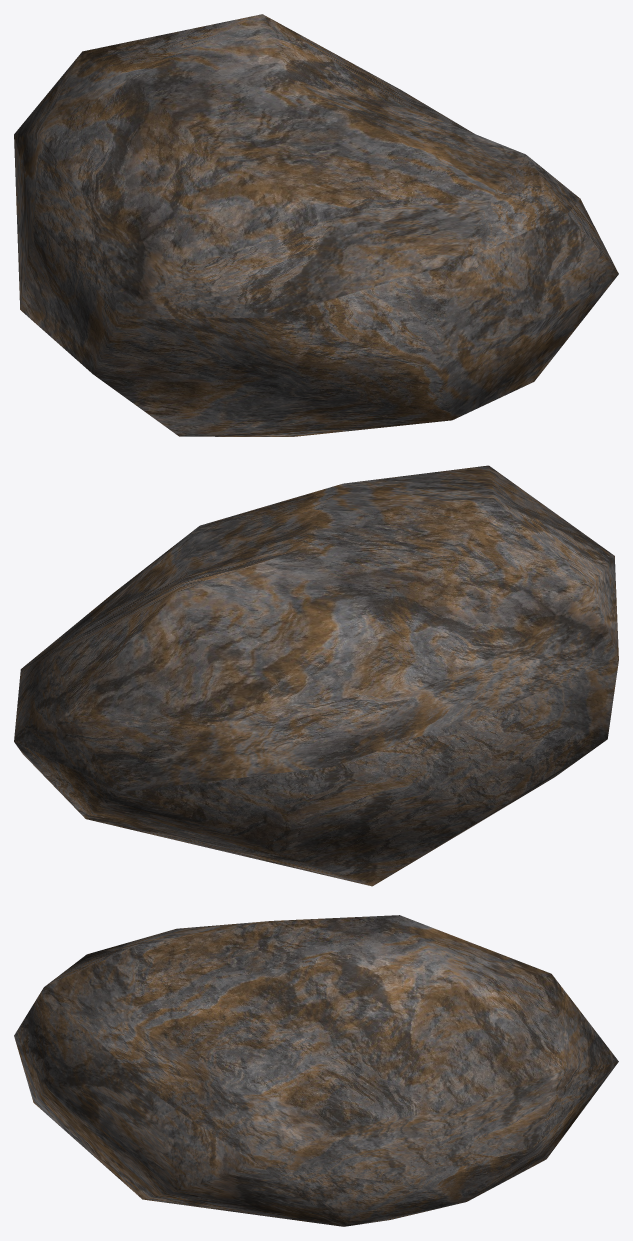
Rendered from rock1.obj.
3 renders of one model, top to bottom at view 1: azimuth 30°, elevation 25°; view 2: azimuth 150°, elevation 25°; view 3: azimuth 270°, elevation 25°, orthographic. The views are drawn at different scales.
Visible parts, largest first — view 1: Icosphere; view 2: Icosphere; view 3: Icosphere.
Part boxes in pixels (left/top/right/bottom): Icosphere: left=14, top=14, right=618, bottom=436; Icosphere: left=14, top=465, right=618, bottom=886; Icosphere: left=14, top=915, right=618, bottom=1226.
Size of the model in its own units: 2.24 by 1.24 by 2.86.
